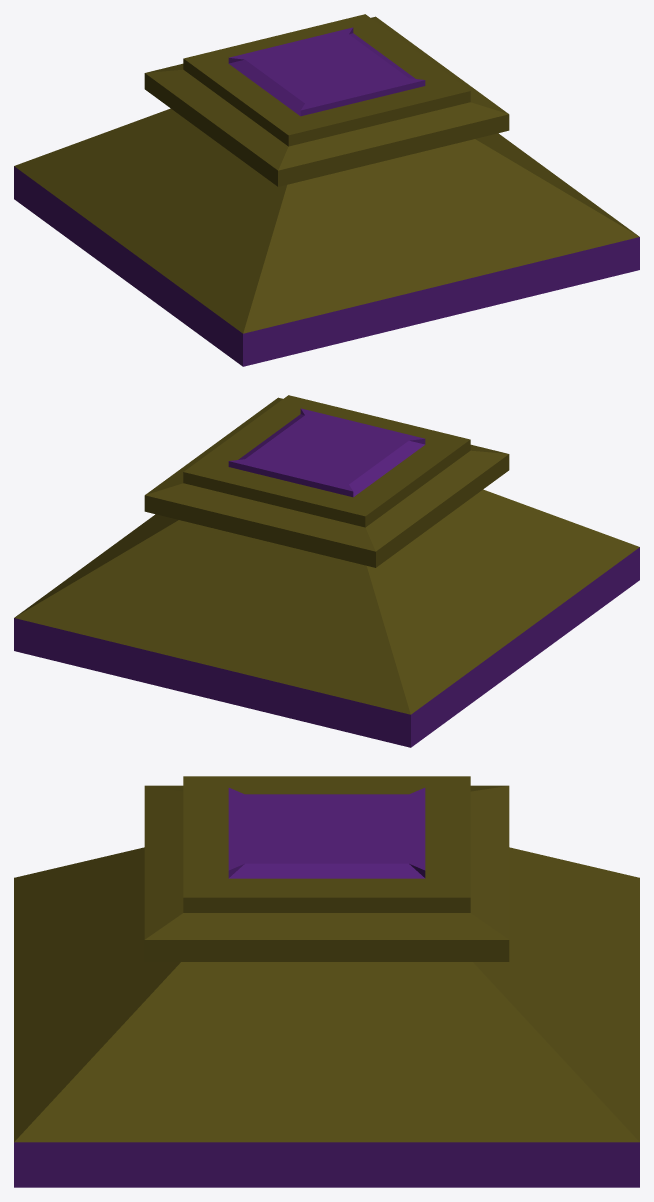
The model's file is gambit-altar.glb.
3 views of the same model, one above another, from view 1: azimuth 30°, elevation 25°; view 2: azimuth 150°, elevation 25°; view 3: azimuth 270°, elevation 25° (orthographic). The views are drawn at different scales.
Visible parts, largest first — view 1: Cube; view 2: Cube; view 3: Cube.
Boxes of the visible parts, x1,y1,x2,y2 form: Cube: (14,14,639,366); Cube: (14,395,639,747); Cube: (14,776,639,1187).
Bounding box in the file's own units: 1.9 × 0.7566 × 1.9.
